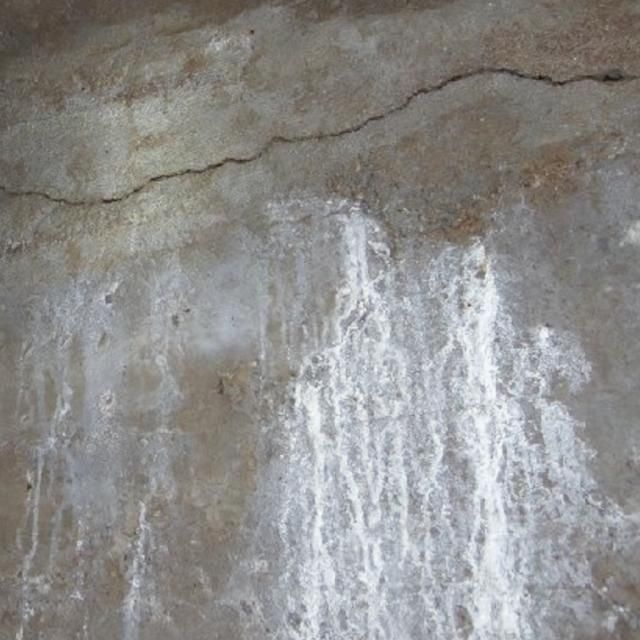D01: (258, 206, 625, 639)
